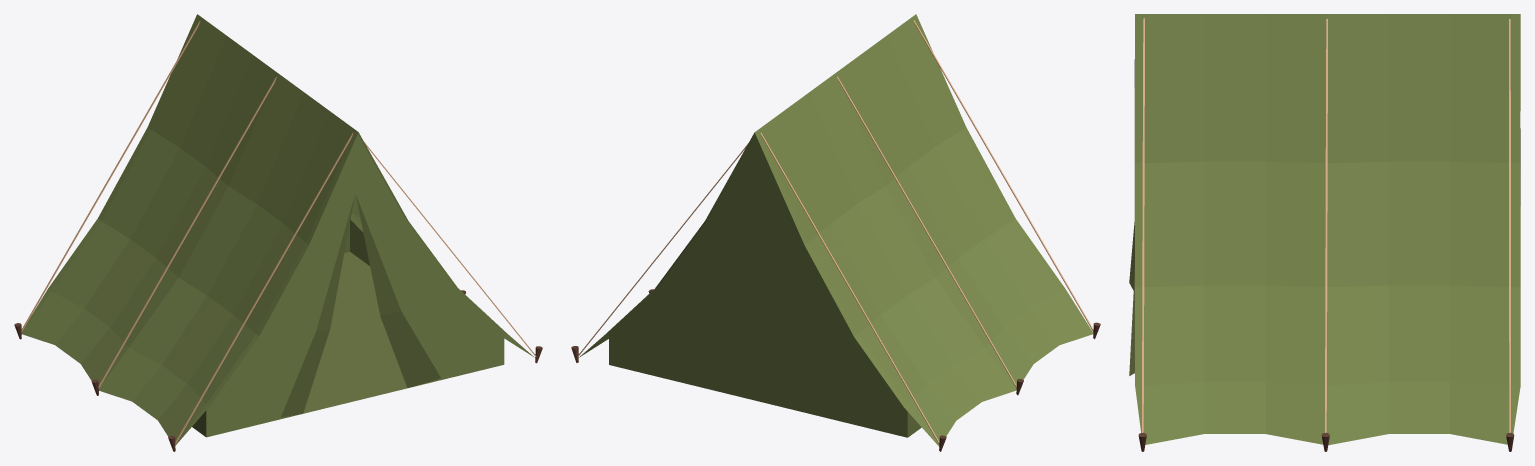
The model's file is Camping Tent.glb.
3 renders of one model, left to right at view 1: azimuth 30°, elevation 25°; view 2: azimuth 150°, elevation 25°; view 3: azimuth 270°, elevation 25°, orthographic. The views are drawn at different scales.
Visible parts, largest first — view 1: Camping Tent; view 2: Camping Tent; view 3: Camping Tent.
Part boxes in pixels (left/top/right/bottom): Camping Tent: left=14, top=14, right=542, bottom=451; Camping Tent: left=571, top=14, right=1100, bottom=451; Camping Tent: left=1129, top=14, right=1520, bottom=451.
Bounding box in the file's own units: 3.99 × 2.83 × 3.03.
1 material, 1 textured.
